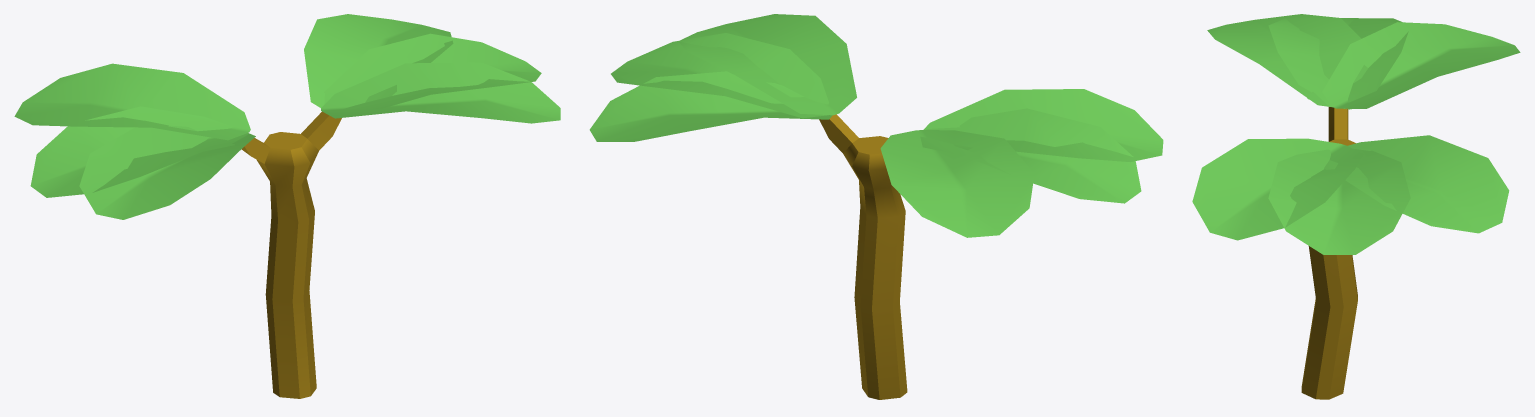
File: Seeding_Lettuces.fbx
The picture shows the model from 3 angles, left to right: view 1: azimuth 30°, elevation 25°; view 2: azimuth 150°, elevation 25°; view 3: azimuth 270°, elevation 25°; orthographic projection. The views are drawn at different scales.
Visible parts, largest first — view 1: polySurface25; view 2: polySurface25; view 3: polySurface25.
Boxes of the visible parts, x1,y1,x2,y2 form: polySurface25: (14, 14, 560, 398); polySurface25: (589, 14, 1163, 399); polySurface25: (1192, 14, 1520, 399).
Size of the model in its own units: 2.58 by 1.47 by 1.48.
